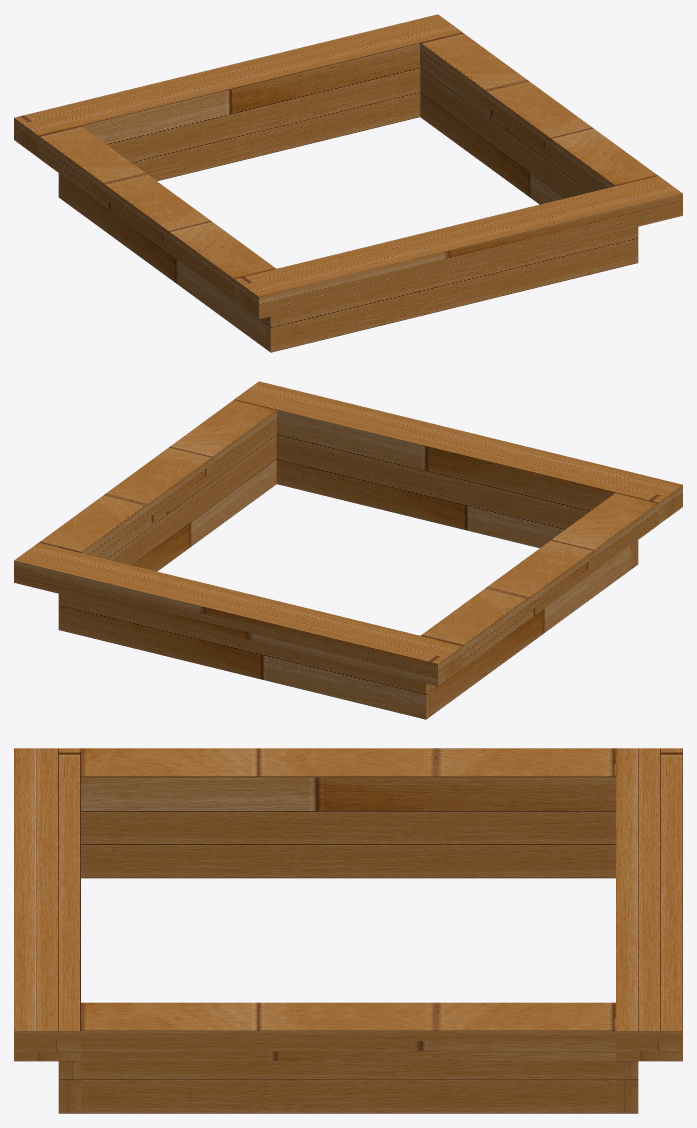
File: levelboxtexture.obj
3 renders of one model, top to bottom at view 1: azimuth 30°, elevation 25°; view 2: azimuth 150°, elevation 25°; view 3: azimuth 270°, elevation 25°, orthographic. The views are drawn at different scales.
Parts seen in each view (by area): view 1: levelbox:pCube9; view 2: levelbox:pCube9; view 3: levelbox:pCube9.
Boxes of the visible parts, x1=… form: levelbox:pCube9: x1=14, y1=14, x2=682, y2=352; levelbox:pCube9: x1=14, y1=381, x2=682, y2=719; levelbox:pCube9: x1=14, y1=748, x2=682, y2=1113.
Size of the model in its own units: 60.03 by 10.07 by 60.02.
1 material, 1 textured.
